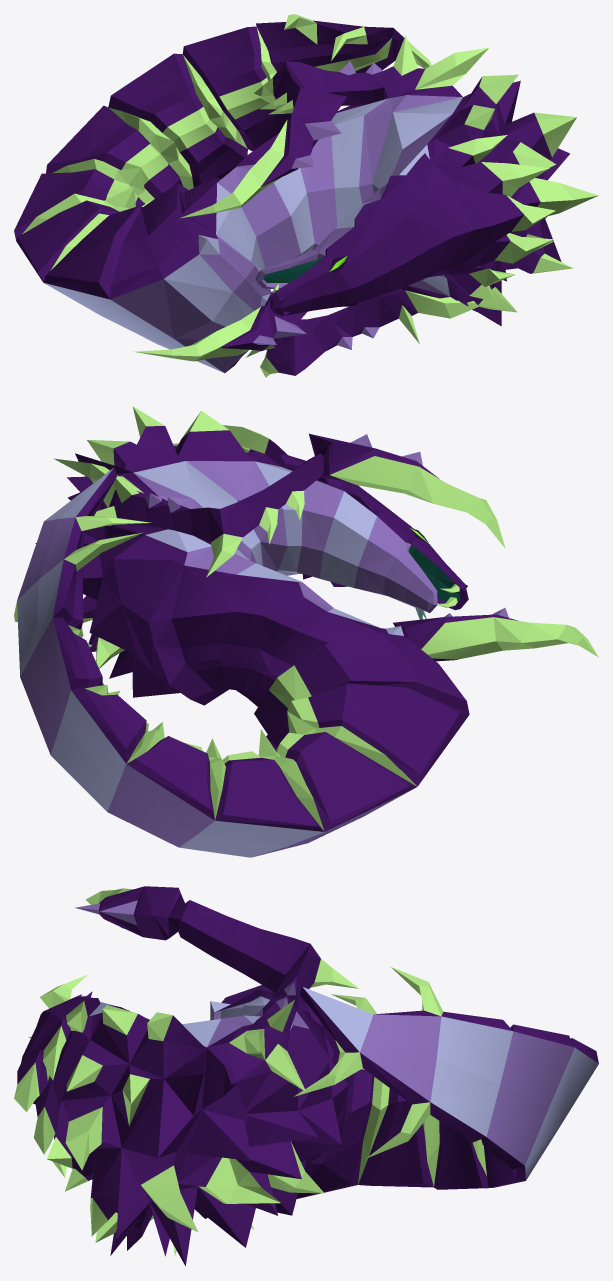
Rendered from Dead (32).obj.
The picture shows the model from 3 angles, top to bottom: view 1: azimuth 30°, elevation 25°; view 2: azimuth 150°, elevation 25°; view 3: azimuth 270°, elevation 25°; orthographic projection. The views are drawn at different scales.
Visible parts, largest first — view 1: Alien_Serpent; view 2: Alien_Serpent; view 3: Alien_Serpent.
Boxes of the visible parts, <box> form: Alien_Serpent: <box>14,14,598,377</box>; Alien_Serpent: <box>14,406,598,857</box>; Alien_Serpent: <box>14,886,598,1265</box>.
Bounding box in the file's own units: 238 × 153 × 237.
Materials: 1 (1 with a texture image).
